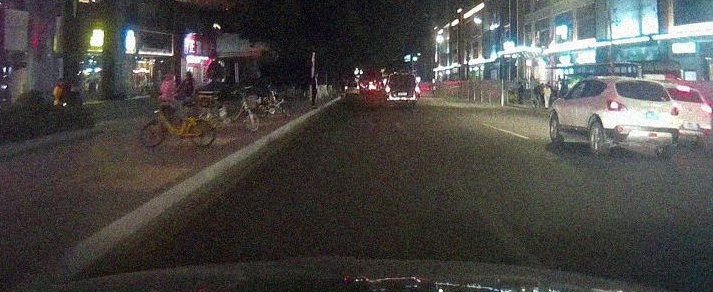L_light: (607, 99, 628, 112), (386, 86, 390, 93)
R_light: (669, 106, 680, 116), (415, 86, 419, 94)
T_light: (637, 81, 646, 84), (400, 76, 405, 77)
night-left: (605, 77, 681, 160)
night-no: (385, 73, 420, 109)
